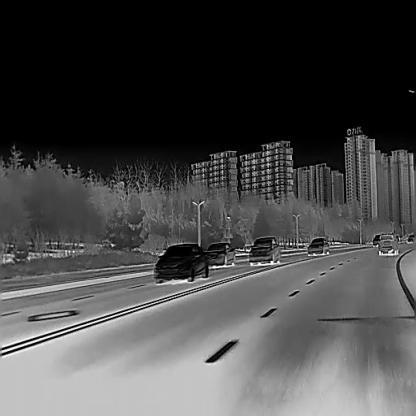car: (153, 242, 208, 283), (248, 236, 281, 265), (206, 242, 235, 267), (378, 233, 399, 256), (307, 237, 329, 256), (372, 234, 381, 246)
